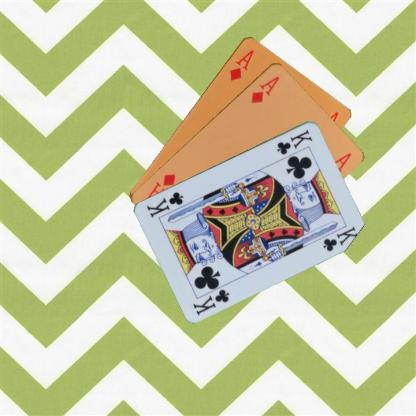Ad: (248, 73, 281, 104), (227, 46, 255, 82)
Kc: (191, 286, 231, 317), (274, 127, 314, 156)
